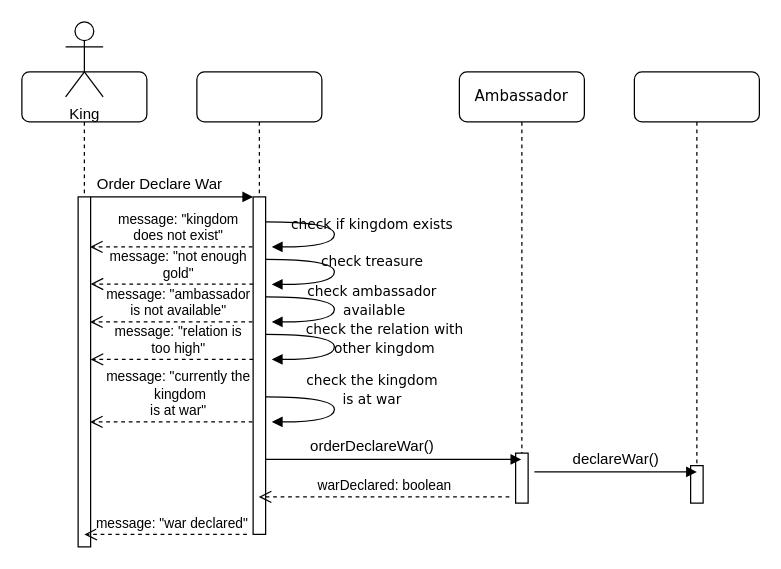
Image size: 781x569. Some labels were removed from this diagram. Here are the shapes that lost their labels. From the top down, the box of each, then its label:
(196, 71, 322, 534): Kingdom
(633, 71, 759, 497): Other Kingdom
